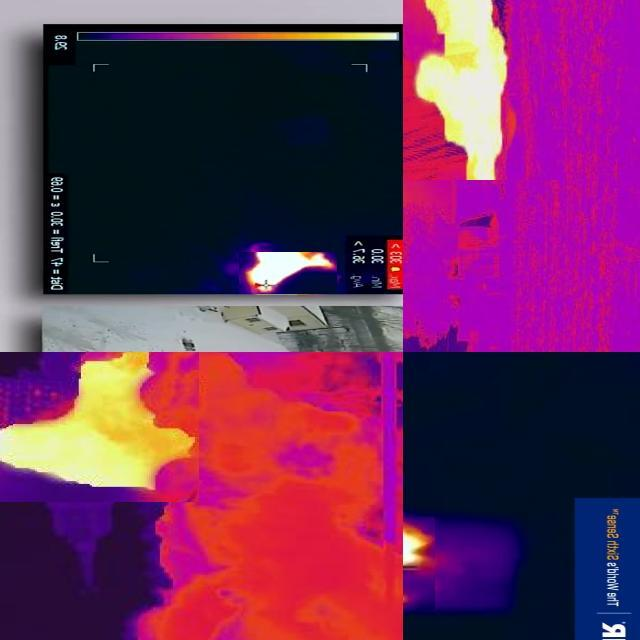fire: (1, 353, 199, 503), (404, 1, 524, 184), (239, 253, 337, 295), (404, 517, 442, 575)
